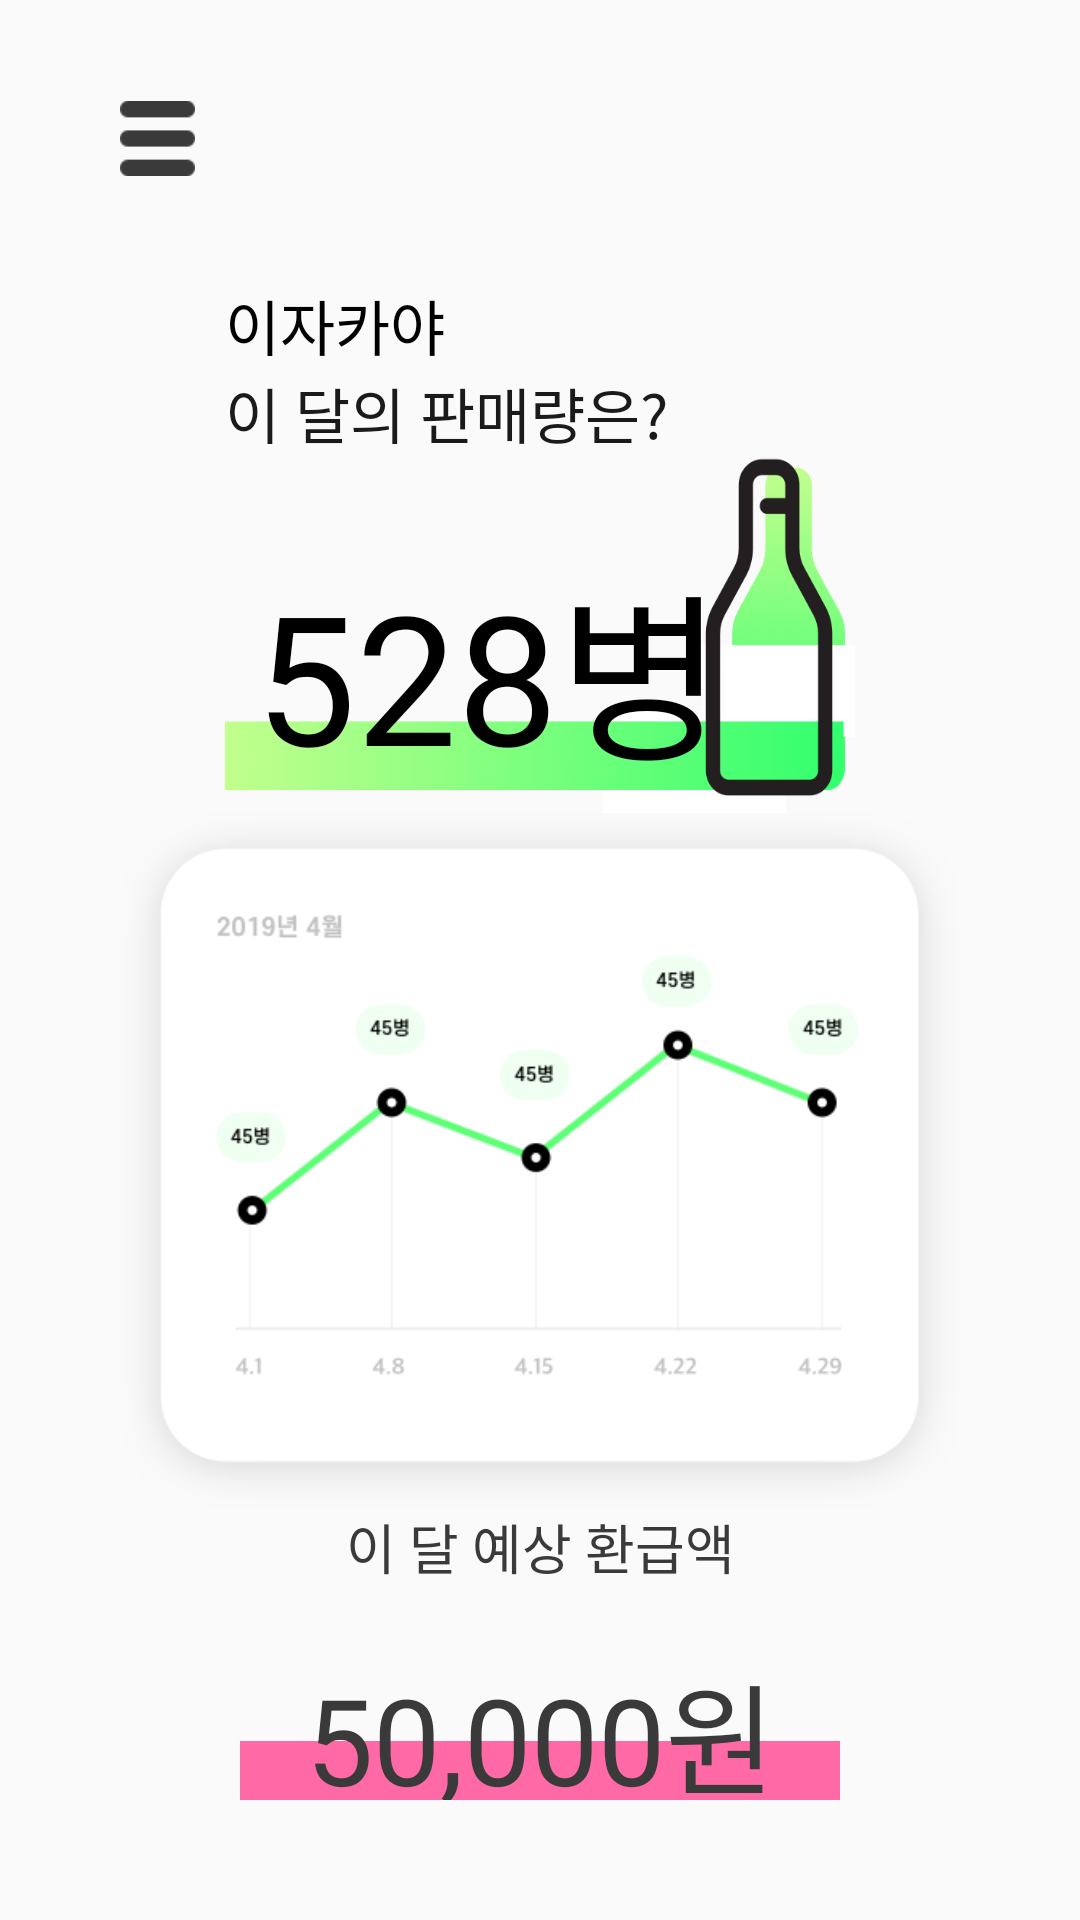

Named icons in this screenshot (1080px x 1920px) and their bounding boxes, (x1, y1, x2, y2):
menu: (120, 101, 195, 176)
